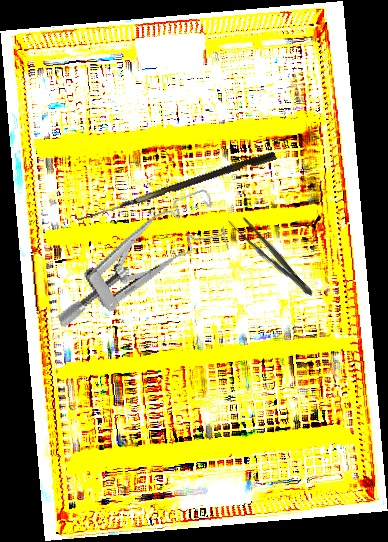Dressing Forceps: (225, 210, 319, 302)
Hook Surgical: (77, 147, 277, 231)
Speculum: (33, 186, 238, 330)
